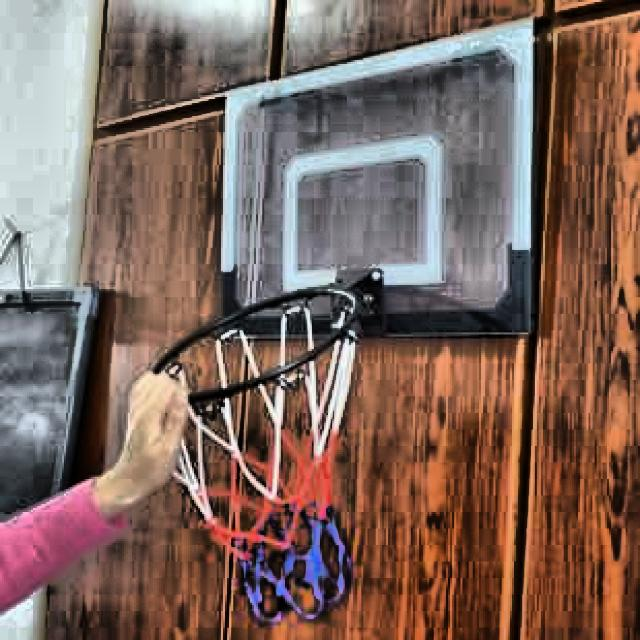rim: (172, 292, 370, 616)
